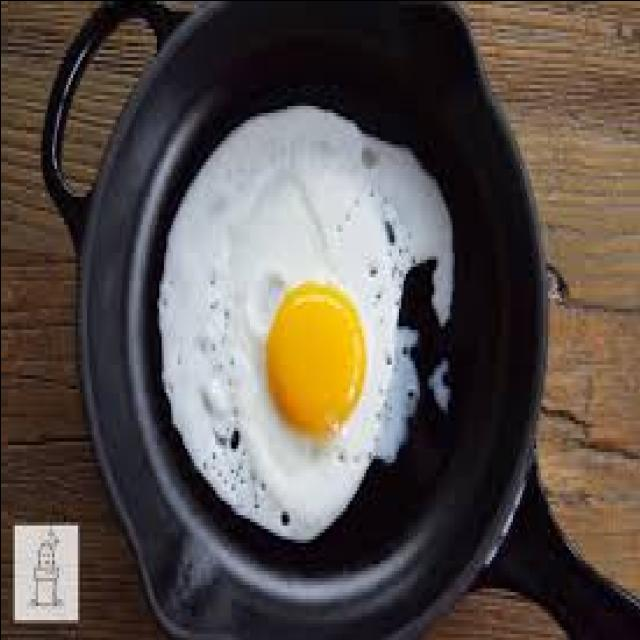telur ceplok: (156, 105, 454, 546)
